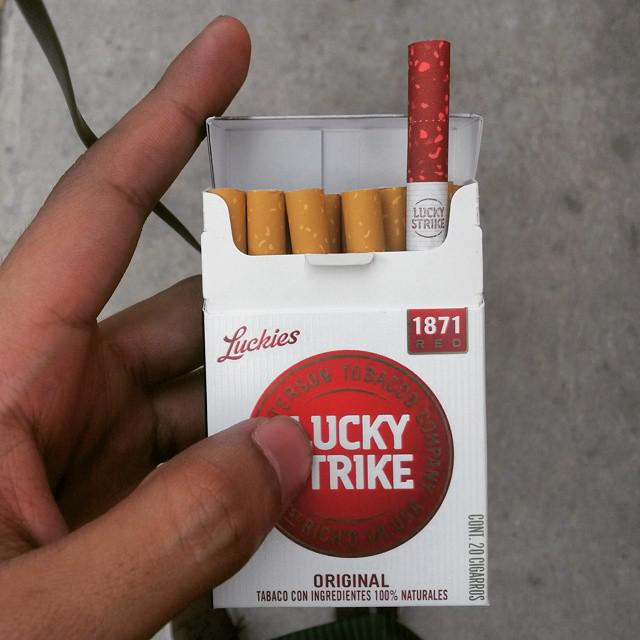lucky_strike_red: (205, 195, 487, 606)
